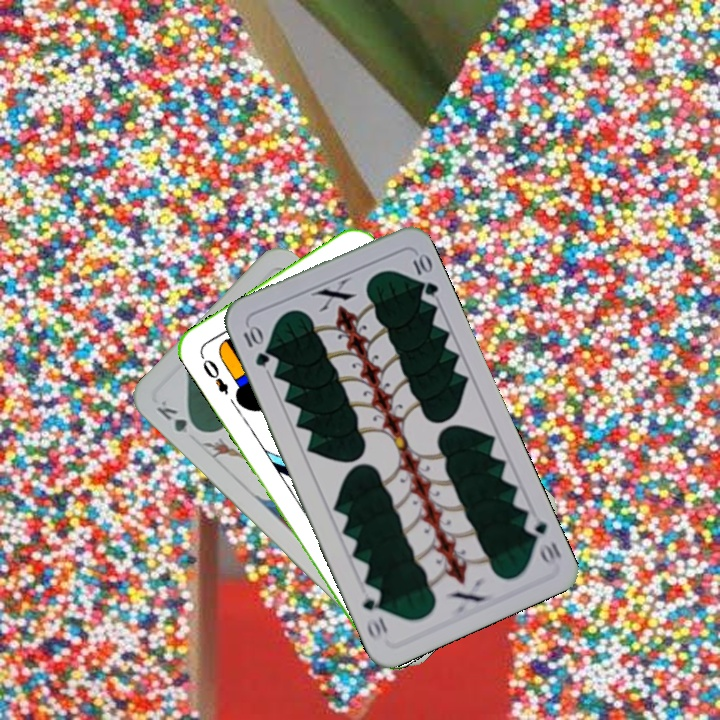EO: (198, 355, 231, 398)
G10: (520, 514, 565, 569), (239, 321, 272, 370)
GK: (152, 396, 204, 436)
